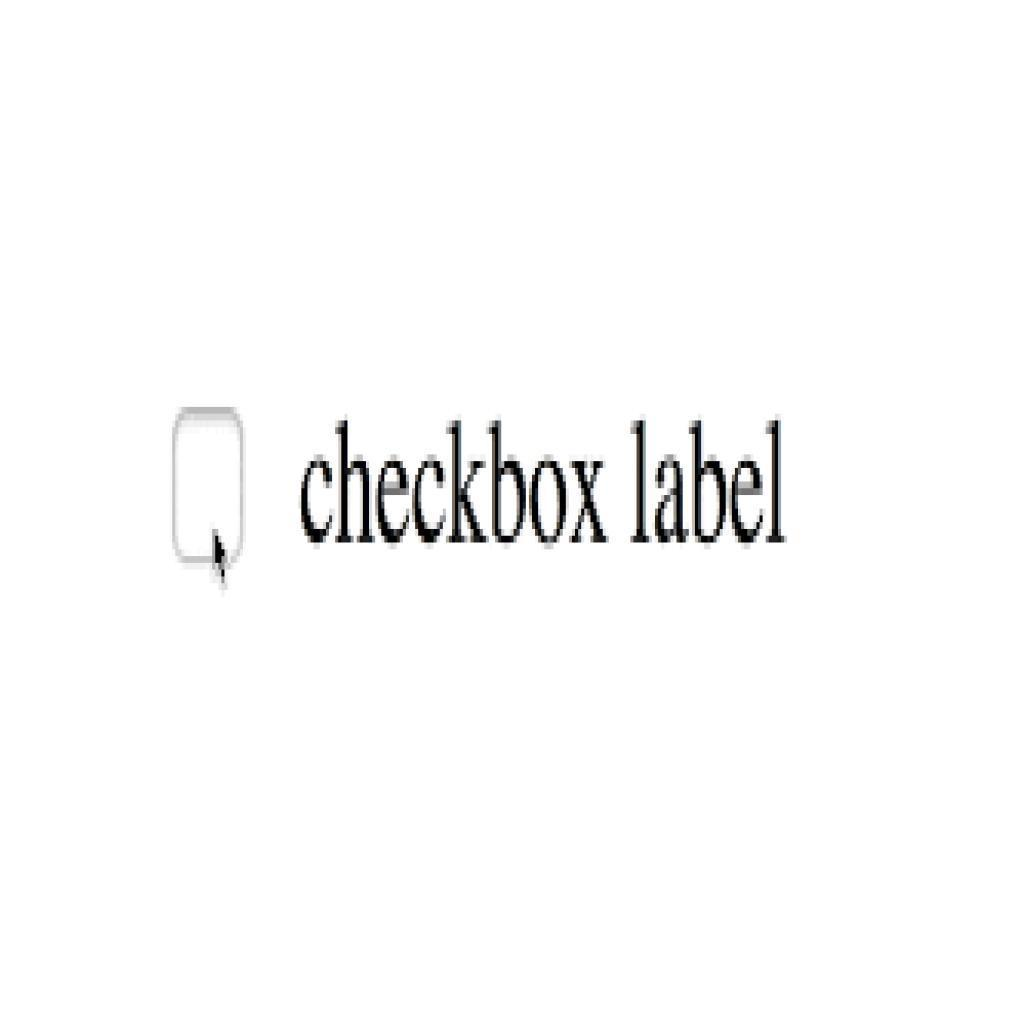checkbox: (172, 407, 245, 565)
label: (295, 411, 792, 550)
